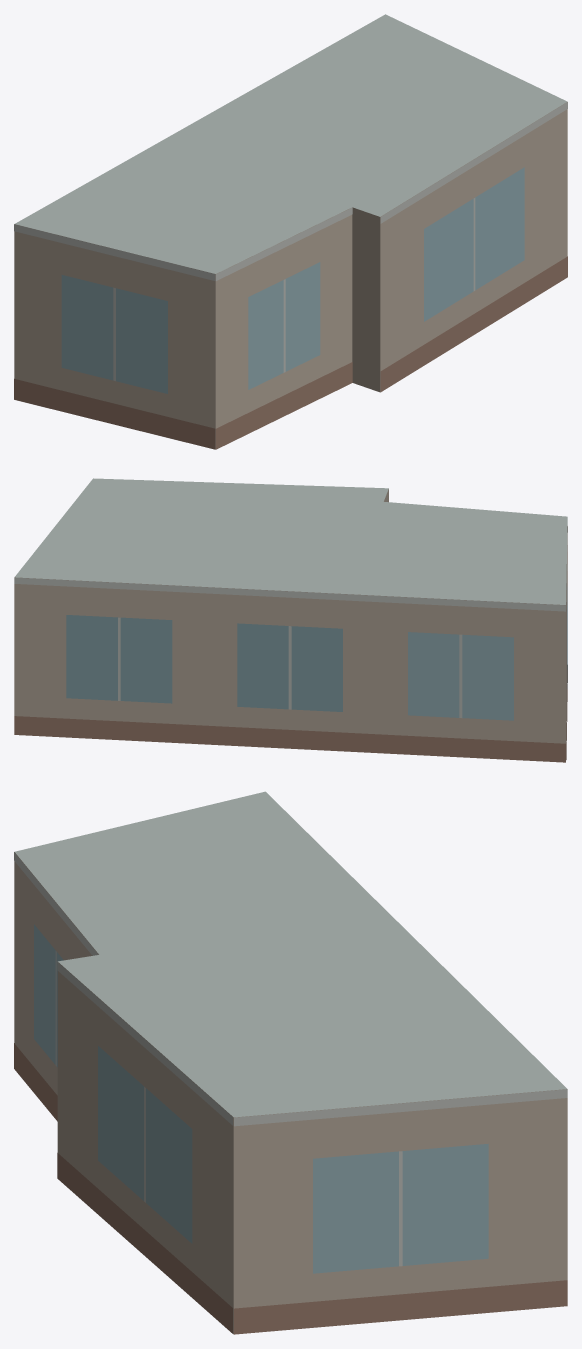
File: survey-upis-33037546.glb
The picture shows the model from 3 angles, top to bottom: view 1: azimuth 30°, elevation 25°; view 2: azimuth 150°, elevation 25°; view 3: azimuth 270°, elevation 25°; orthographic projection. The views are drawn at different scales.
Visible parts, largest first — view 1: survey-upis-33037546.tmp; view 2: survey-upis-33037546.tmp; view 3: survey-upis-33037546.tmp.
Part boxes in pixels (x1,y1,x2,y2): survey-upis-33037546.tmp: (14, 14, 567, 449); survey-upis-33037546.tmp: (14, 478, 567, 762); survey-upis-33037546.tmp: (14, 791, 567, 1334).
Size of the model in its own units: 9.84 by 3.05 by 7.06.
